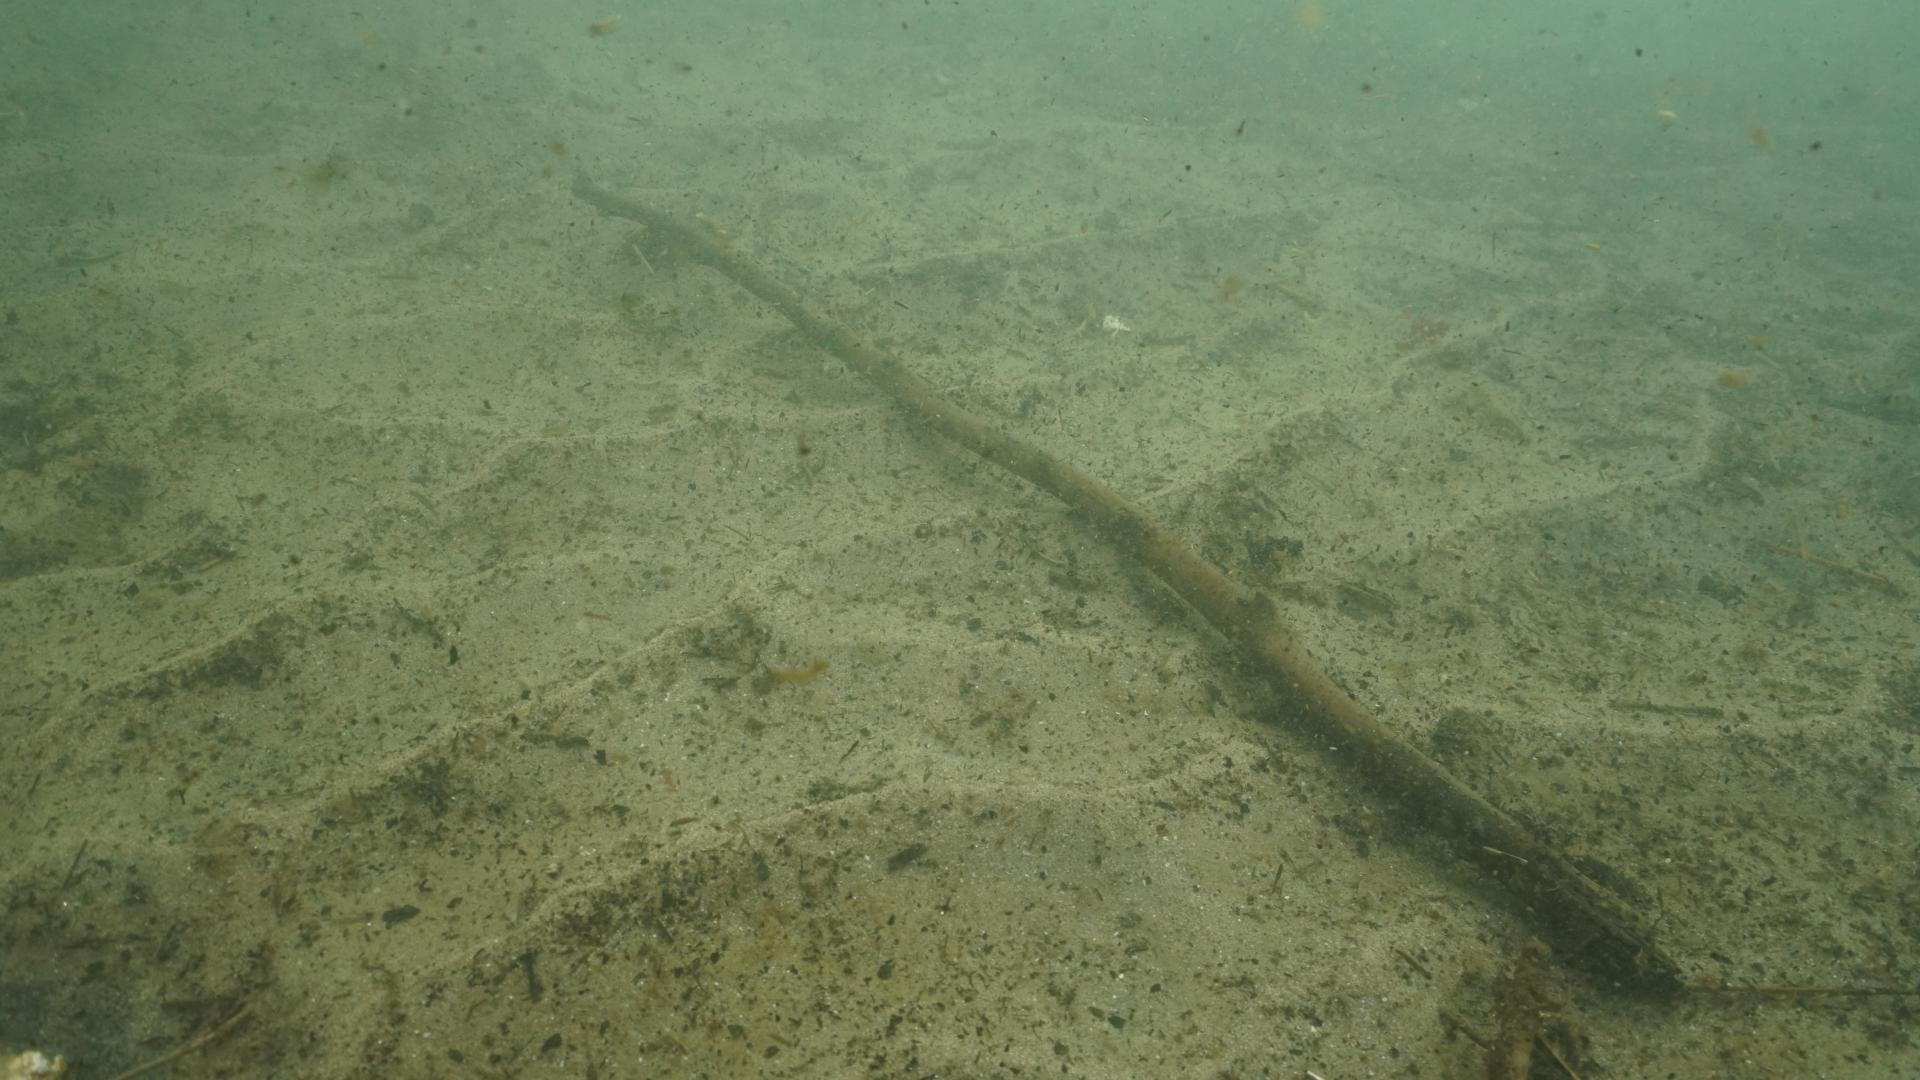wood: (564, 171, 1687, 1005)
